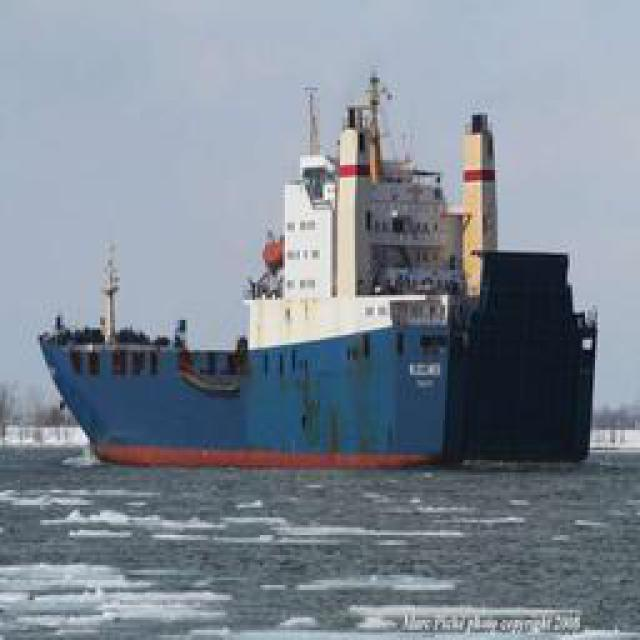Ship: (41, 79, 564, 479)
